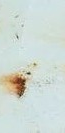Corrosion: (1, 72, 27, 98)
